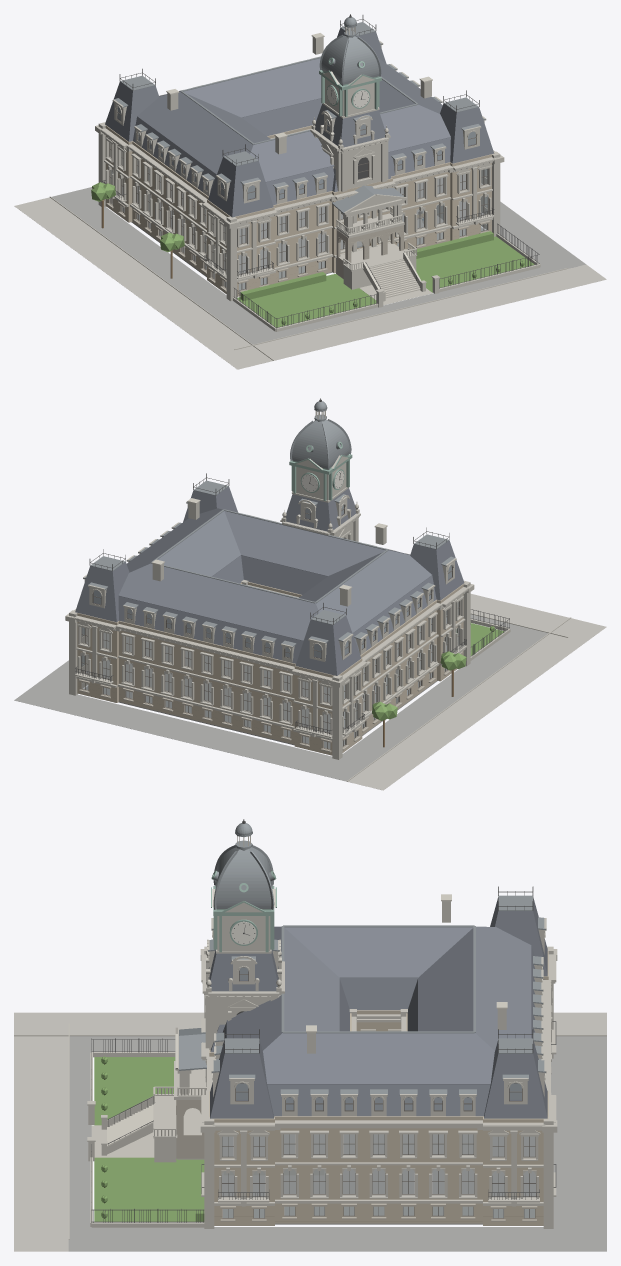
File: clay-second-empire-city-hall-clay-v004.glb
3 renders of one model, top to bottom at view 1: azimuth 30°, elevation 25°; view 2: azimuth 150°, elevation 25°; view 3: azimuth 270°, elevation 25°, orthographic. The views are drawn at different scales.
Visible parts, largest first — view 1: CLAY_STONE, CLAY_ROOF, CLAY_CONCRETE, CLAY_WALL, CLAY_FOUNDATION, CLAY_PLANTING, CLAY_ZINC, CLAY_GLASS, CLAY_HARDWARE, CLAY_TRIM, CLAY_RUSTIC, CLAY_FLOOR (+2 smaller); view 2: CLAY_ROOF, CLAY_STONE, CLAY_FOUNDATION, CLAY_WALL, CLAY_CONCRETE, CLAY_ZINC, CLAY_GLASS, CLAY_FLOOR, CLAY_TRIM, CLAY_RUSTIC, CLAY_HARDWARE, CLAY_PLANTING (+1 smaller); view 3: CLAY_ROOF, CLAY_STONE, CLAY_FOUNDATION, CLAY_WALL, CLAY_CONCRETE, CLAY_PLANTING, CLAY_ZINC, CLAY_GLASS, CLAY_FLOOR, CLAY_TRIM, CLAY_HARDWARE, CLAY_RUSTIC (+2 smaller).
Part boxes in pixels (x1,y1,x2,y2): CLAY_STONE: [50, 37, 568, 360]; CLAY_ROOF: [105, 28, 494, 217]; CLAY_CONCRETE: [14, 197, 606, 369]; CLAY_WALL: [105, 125, 494, 296]; CLAY_FOUNDATION: [51, 187, 585, 344]; CLAY_PLANTING: [91, 182, 534, 327]; CLAY_ZINC: [114, 17, 485, 213]; CLAY_GLASS: [110, 106, 487, 290]; CLAY_HARDWARE: [102, 14, 539, 328]; CLAY_TRIM: [109, 108, 488, 290]; CLAY_RUSTIC: [106, 198, 490, 293]; CLAY_FLOOR: [122, 157, 483, 273]; CLAY_ROOF: [75, 486, 464, 675]; CLAY_STONE: [65, 455, 571, 781]; CLAY_FOUNDATION: [14, 614, 548, 781]; CLAY_WALL: [77, 582, 464, 755]; CLAY_CONCRETE: [348, 594, 606, 790]; CLAY_ZINC: [83, 401, 455, 647]; CLAY_GLASS: [81, 504, 459, 748]; CLAY_FLOOR: [86, 615, 446, 732]; CLAY_TRIM: [81, 505, 459, 749]; CLAY_RUSTIC: [78, 651, 463, 752]; CLAY_HARDWARE: [75, 398, 509, 735]; CLAY_PLANTING: [372, 622, 504, 720]; CLAY_ROOF: [208, 897, 547, 1118]; CLAY_STONE: [14, 889, 606, 1239]; CLAY_FOUNDATION: [68, 1036, 606, 1251]; CLAY_WALL: [209, 951, 548, 1225]; CLAY_CONCRETE: [14, 1012, 606, 1251]; CLAY_PLANTING: [94, 1056, 204, 1221]; CLAY_ZINC: [179, 823, 545, 1095]; CLAY_GLASS: [222, 967, 535, 1217]; CLAY_FLOOR: [222, 1134, 535, 1196]; CLAY_TRIM: [221, 967, 536, 1218]; CLAY_HARDWARE: [91, 819, 556, 1222]; CLAY_RUSTIC: [176, 1067, 551, 1221].
Bounding box in the file's own units: 62 × 39 × 65.
